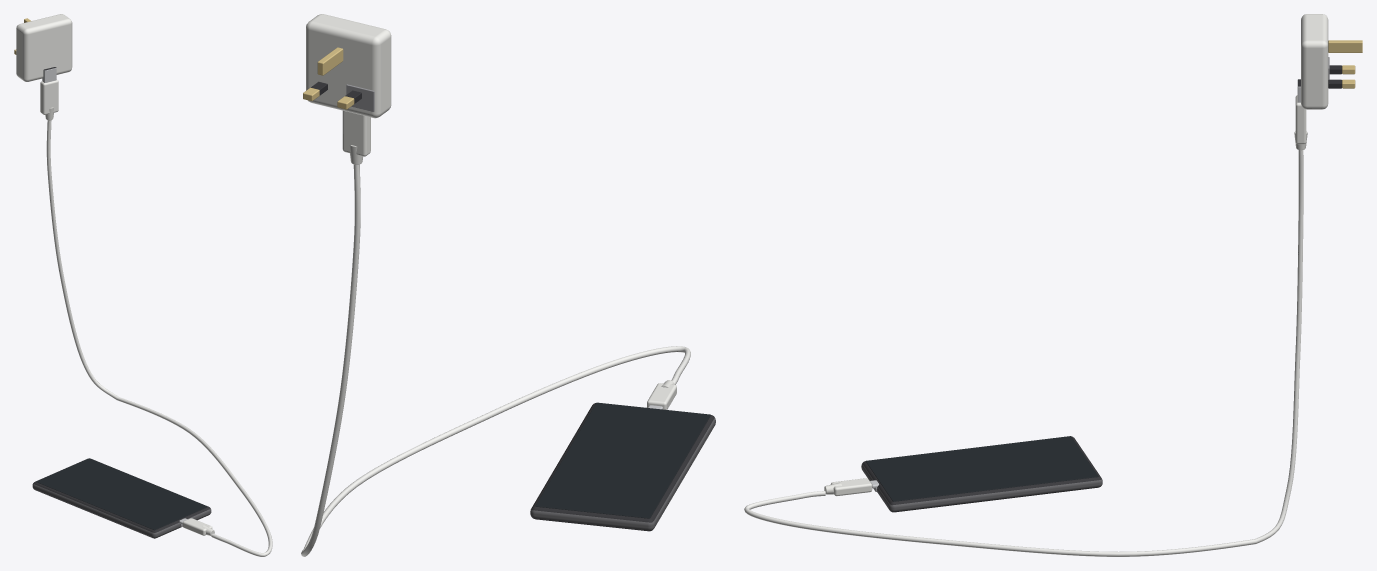
The model's file is kitchen_phone_charger_plugged.fbx.
3 views of the same model, side by side, from view 1: azimuth 30°, elevation 25°; view 2: azimuth 150°, elevation 25°; view 3: azimuth 270°, elevation 25° (orthographic). The views are drawn at different scales.
Visible parts, largest first — view 1: kitchen_phone_charger_plugged; view 2: kitchen_phone_charger_plugged; view 3: kitchen_phone_charger_plugged.
Part boxes in pixels (x1,y1,x2,y2): kitchen_phone_charger_plugged: [14, 14, 272, 556]; kitchen_phone_charger_plugged: [301, 14, 715, 556]; kitchen_phone_charger_plugged: [744, 14, 1362, 556].
Size of the model in its own units: 0.1754 by 0.352 by 0.4074.
